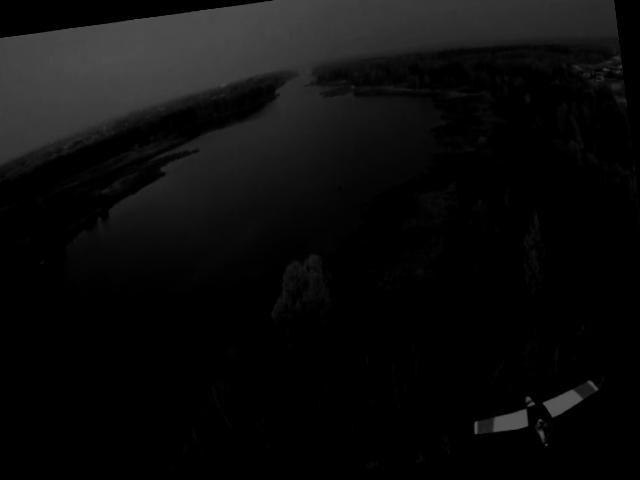hedef: (468, 367, 612, 457)
